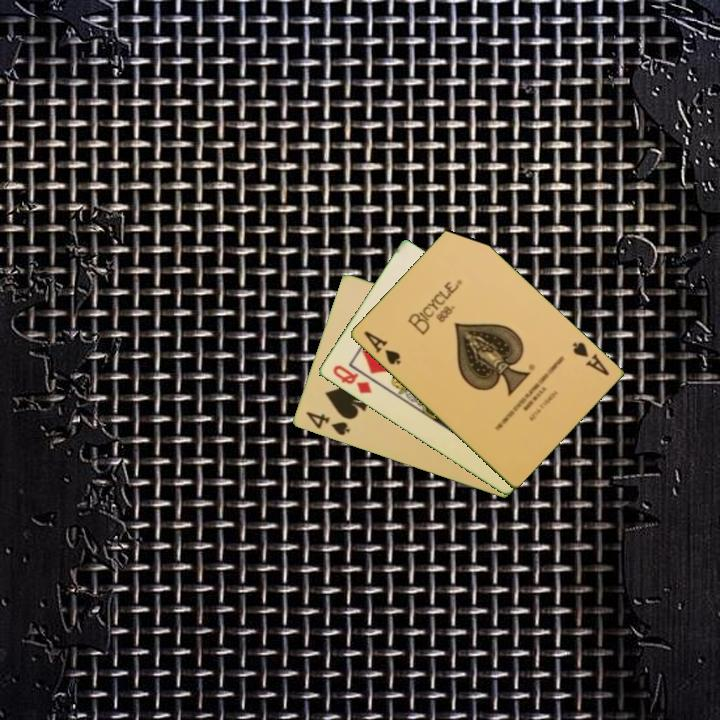4s: (302, 408, 352, 439)
As: (360, 327, 404, 368), (569, 338, 612, 379)
Qd: (329, 361, 375, 397)
